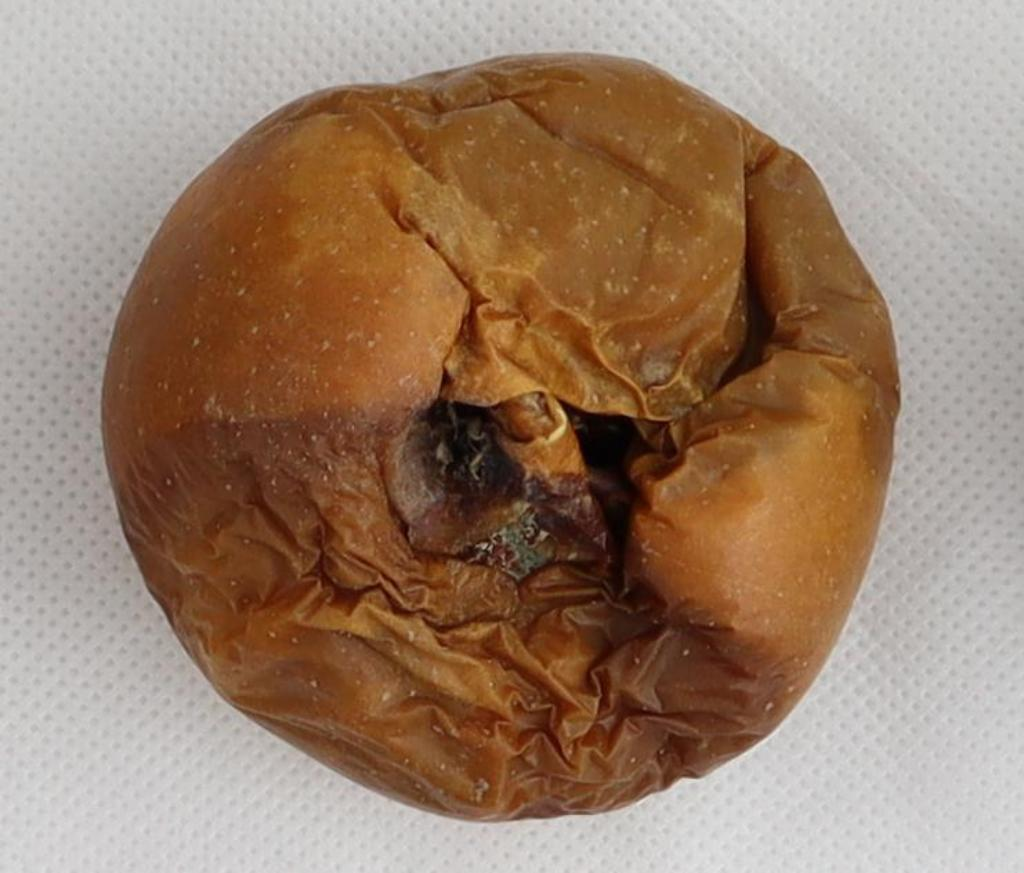apple: (104, 55, 897, 818)
rot_mold_decay: (104, 55, 898, 819)
